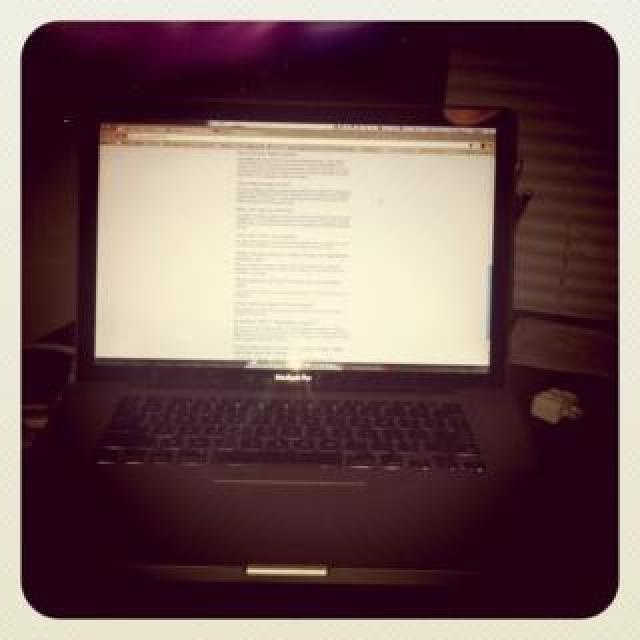laptop_computer: (45, 99, 549, 601)
